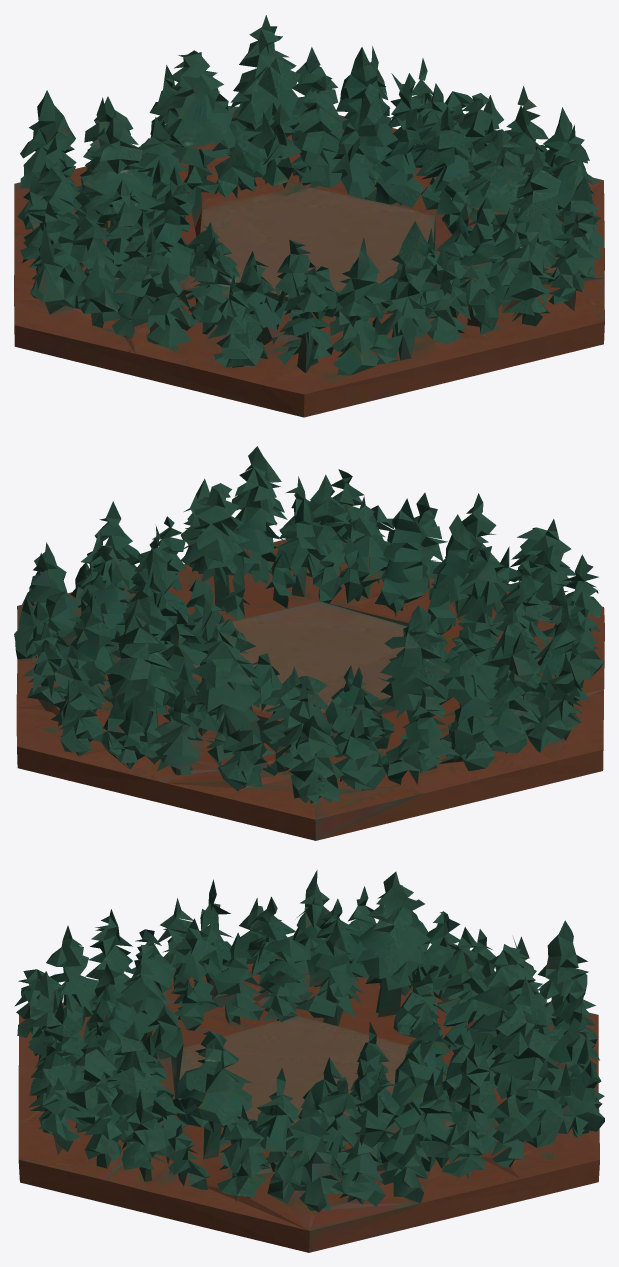
Rendered from foresta.glb.
The picture shows the model from 3 angles, top to bottom: view 1: azimuth 30°, elevation 25°; view 2: azimuth 150°, elevation 25°; view 3: azimuth 270°, elevation 25°; orthographic projection.
Bounding box in the file's own units: 1.9 × 0.5099 × 1.65.
1 material, 1 textured.
